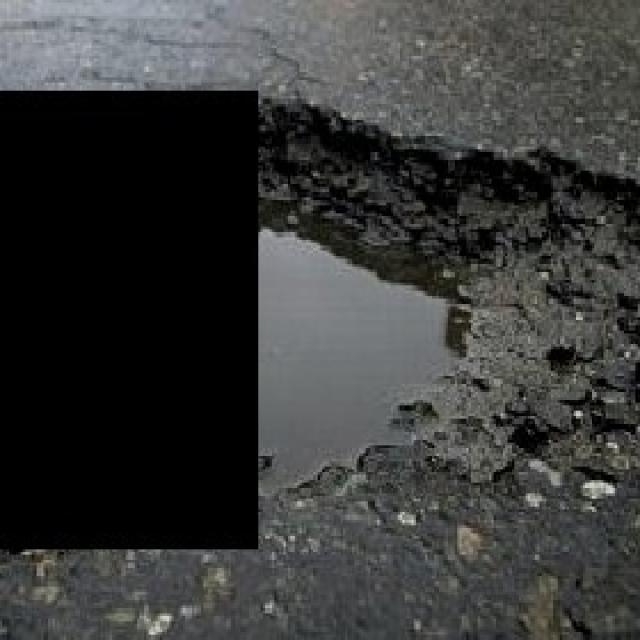road-pothole: (260, 104, 637, 511)
